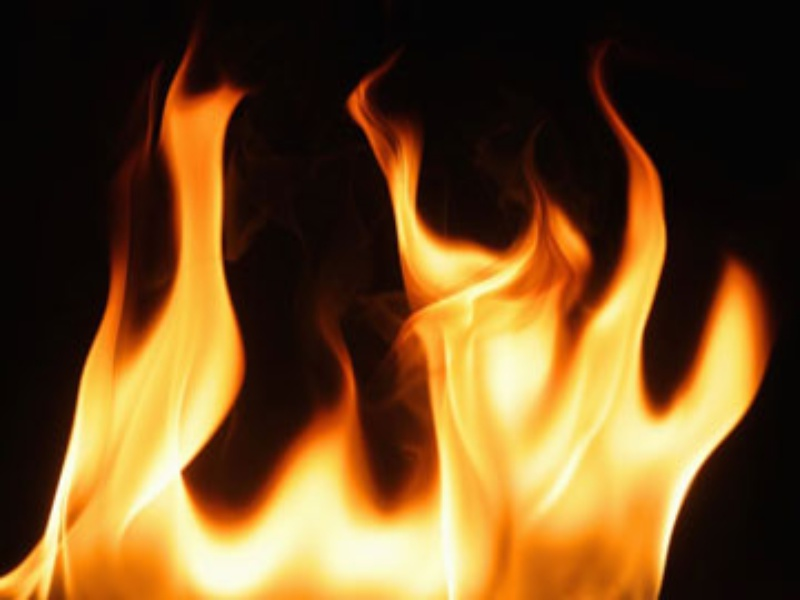fire: (2, 42, 772, 600)
